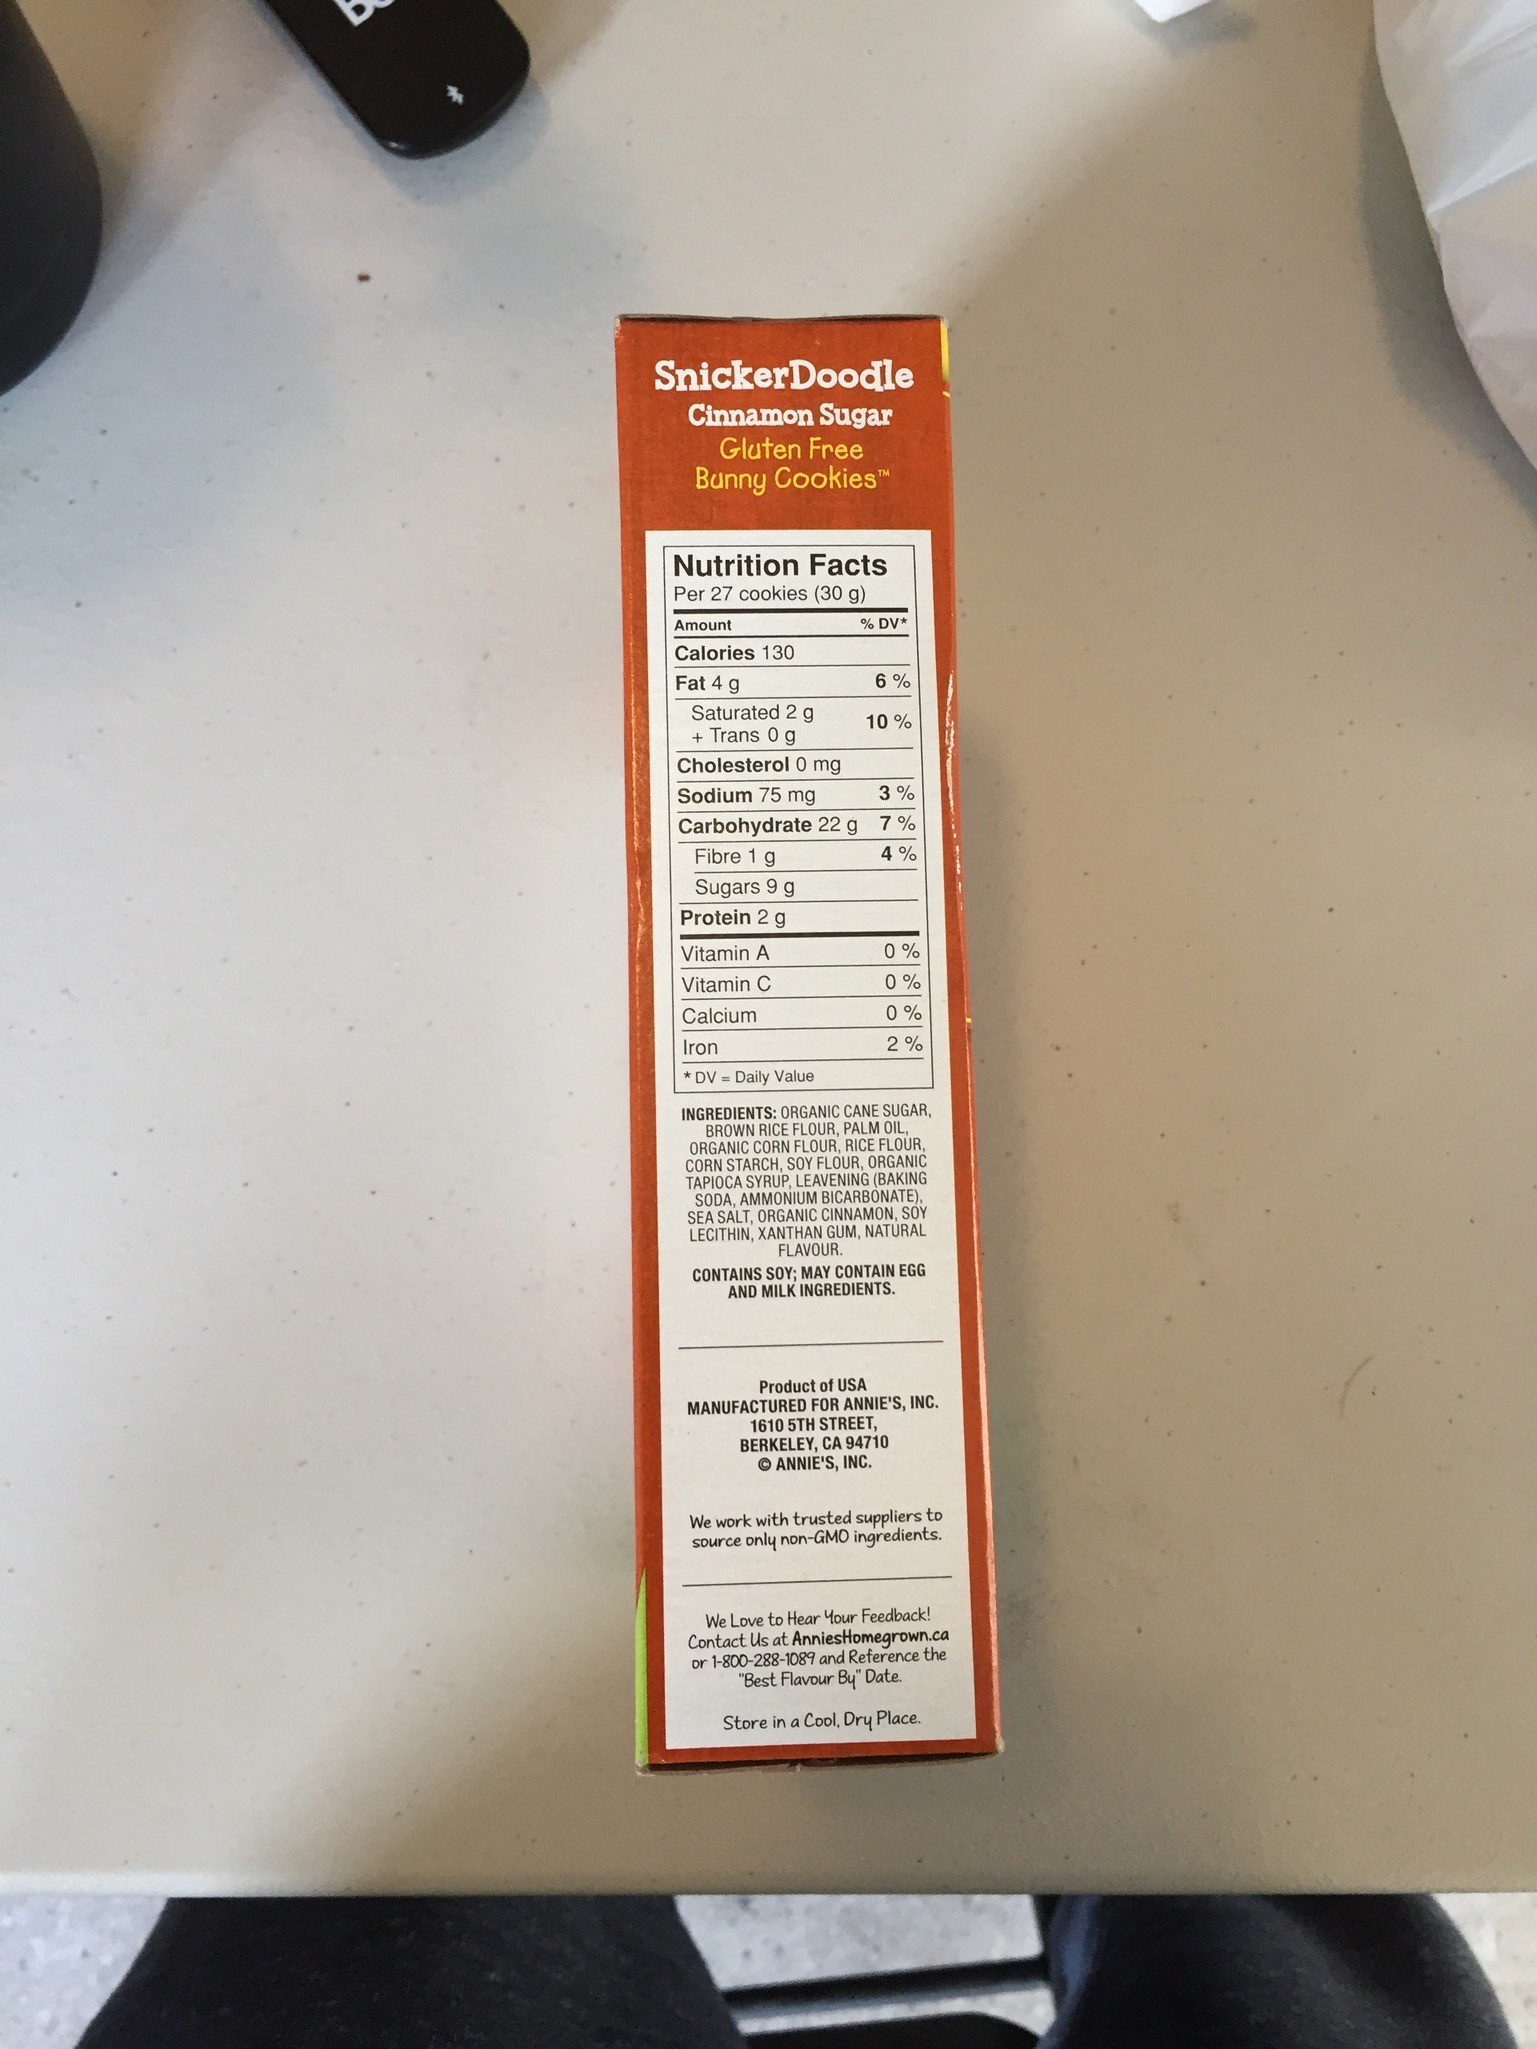annies_snickerdoodle_cinnamon_sugar: (623, 328, 993, 1749)
